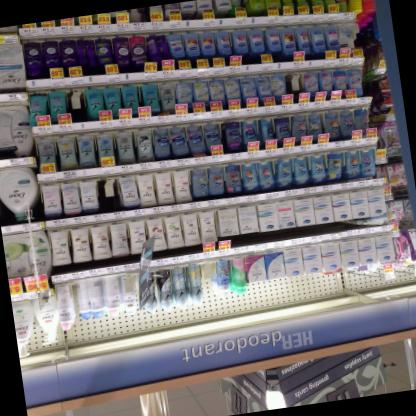empty_space: (96, 173, 120, 210), (66, 85, 86, 121), (286, 66, 303, 93)
